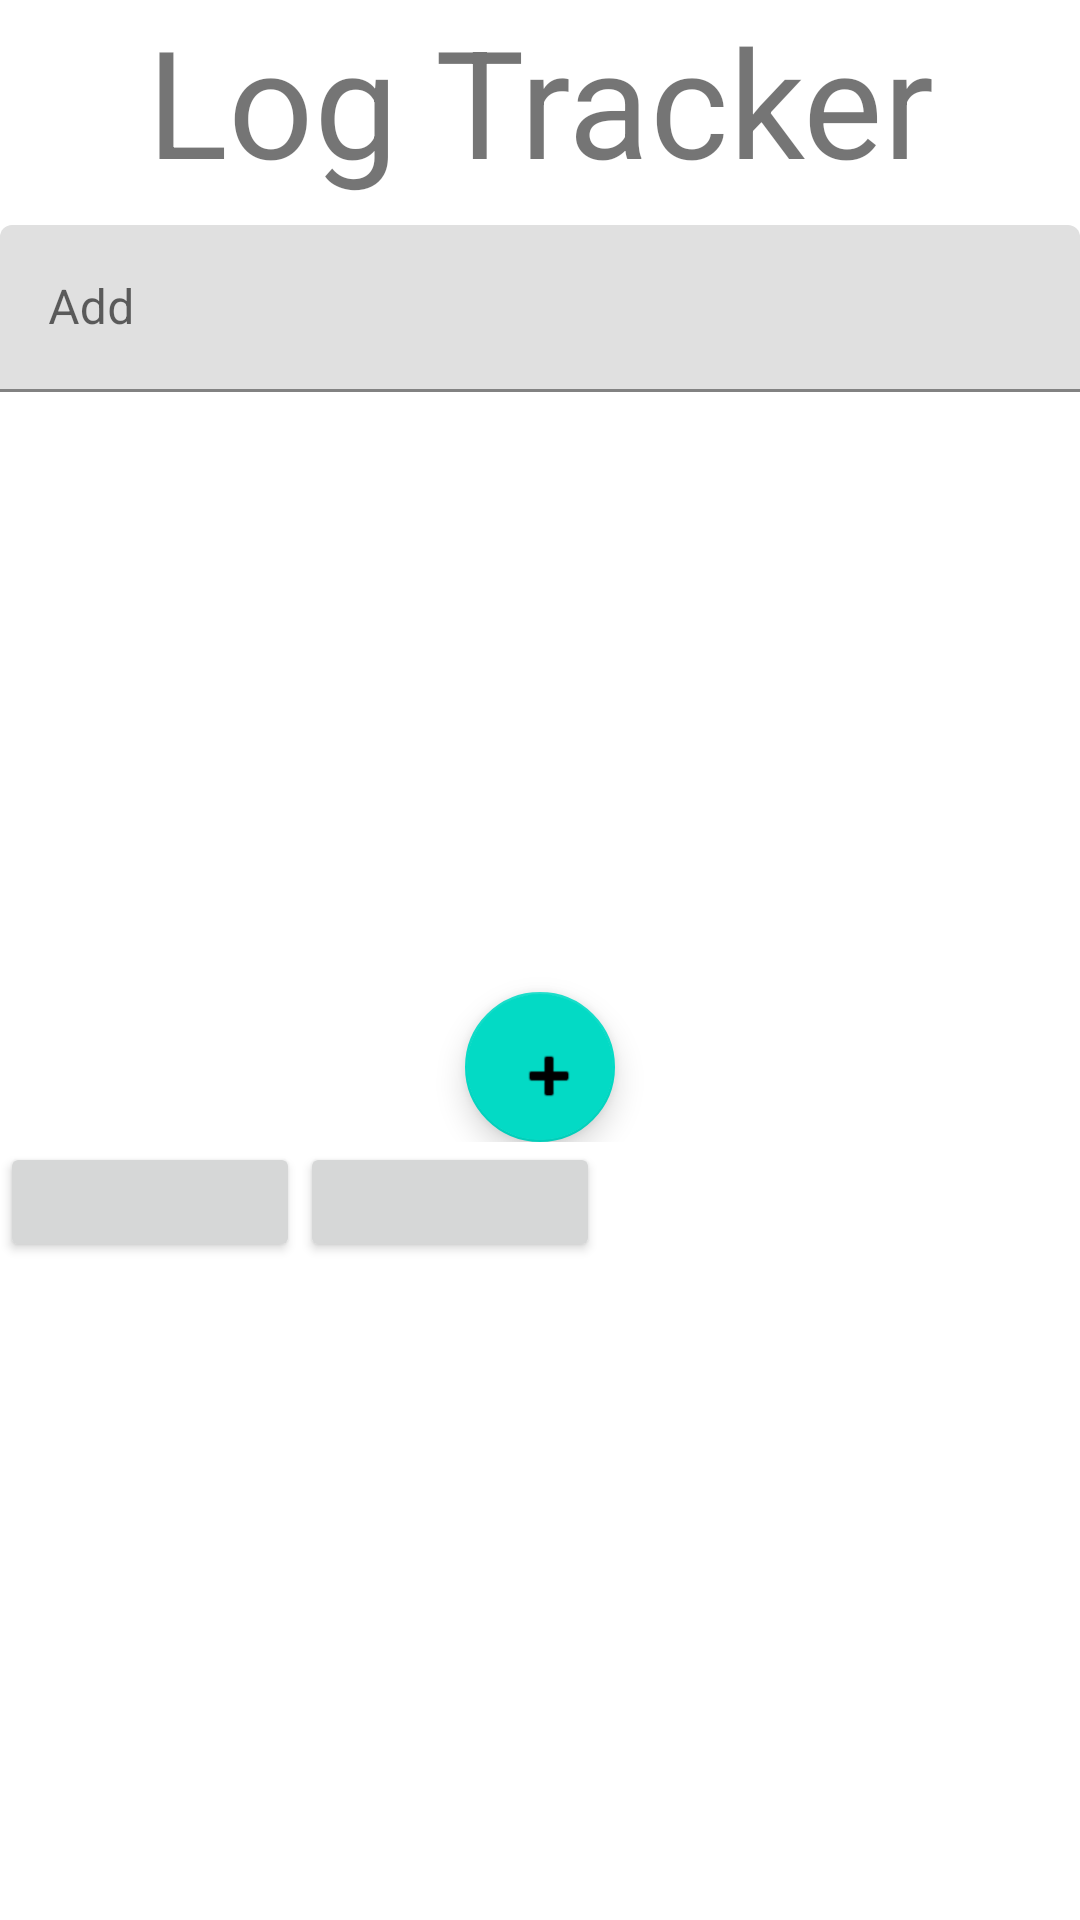

Icons on this 1080w x 1920h Android screen, each with the point to tap as (x=x, y=y):
add: (x=540, y=1067)
